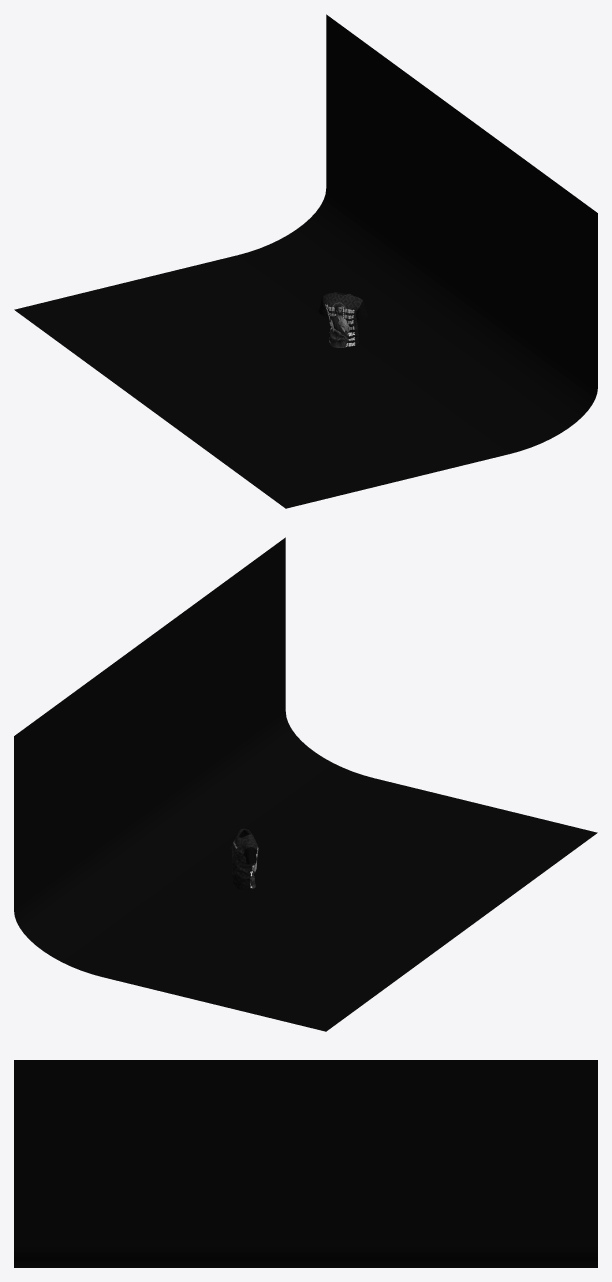
The model's file is t-shirt_vandalisme.glb.
3 renders of one model, top to bottom at view 1: azimuth 30°, elevation 25°; view 2: azimuth 150°, elevation 25°; view 3: azimuth 270°, elevation 25°, orthographic. The views are drawn at different scales.
Parts seen in each view (by area): view 1: Plane_0, T_Shirt_3; view 2: Plane_0, T_Shirt_3; view 3: Plane_0.
Part boxes in pixels (<box>): Plane_0: <box>14,14,597,508</box>; T_Shirt_3: <box>318,292,367,347</box>; Plane_0: <box>14,537,597,1031</box>; T_Shirt_3: <box>231,828,258,889</box>; Plane_0: <box>14,1060,597,1267</box>.
Bounding box in the file's own units: 4.09 × 2.74 × 6.16.
2 materials, 1 textured.
